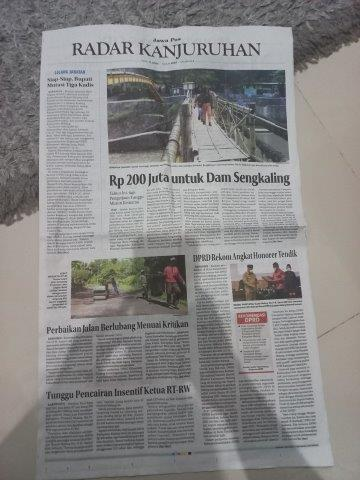kertas: (37, 25, 335, 471)
